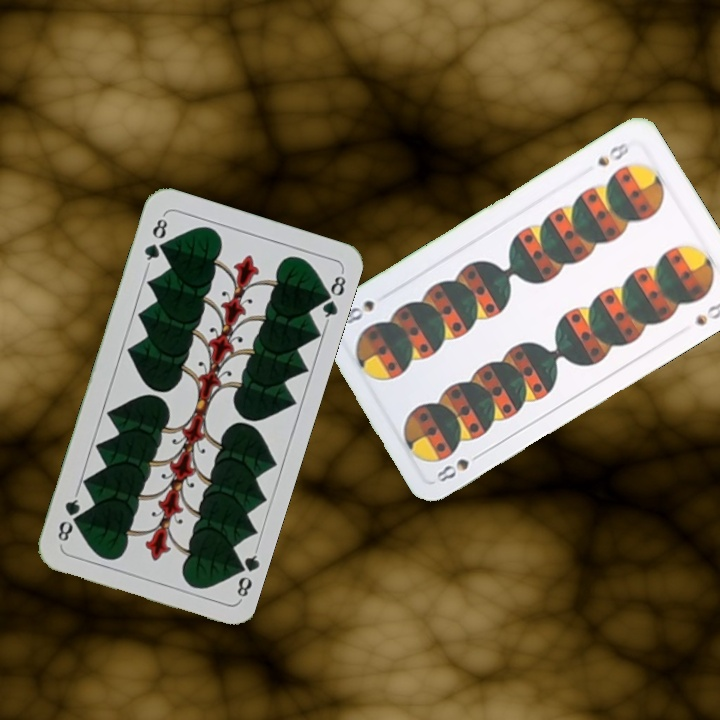G8: (229, 545, 262, 603), (140, 211, 170, 269)
S8: (593, 136, 634, 170), (432, 454, 472, 485)
